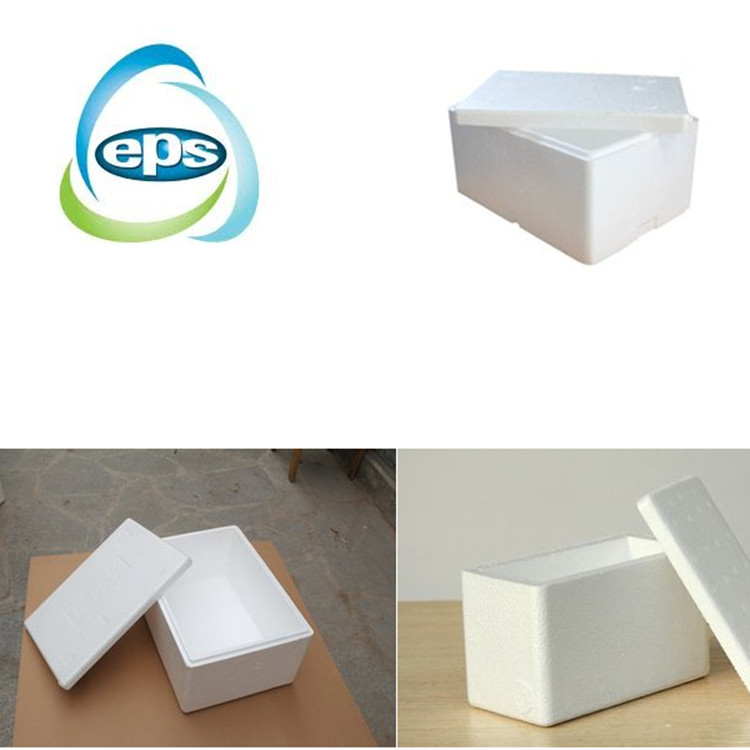泡沫箱: (0, 504, 375, 747), (449, 71, 697, 265), (462, 535, 710, 726)
